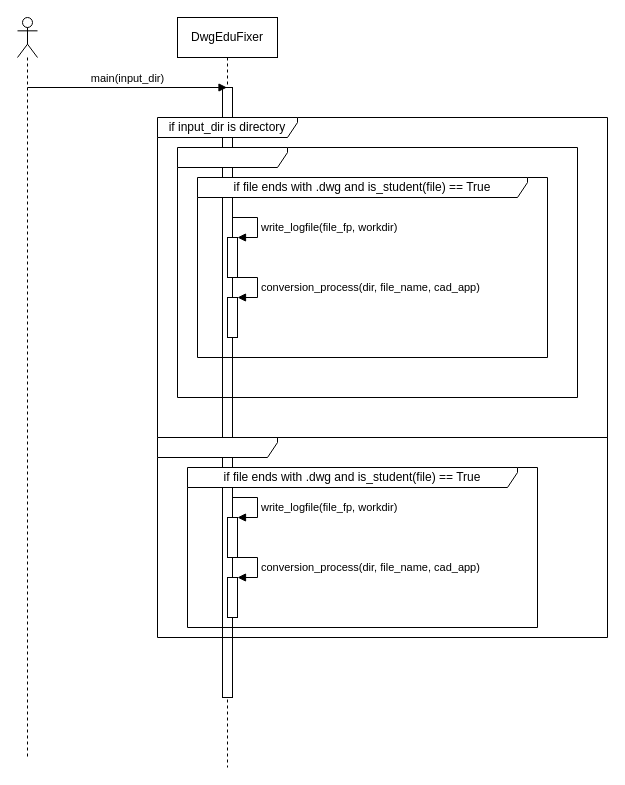
Image size: 625x785. Some labels were removed from this diagram. Each missing label, with the box of its shape:
for file in directory: (176, 146, 578, 398)
if input_dir is file: (156, 436, 608, 638)
